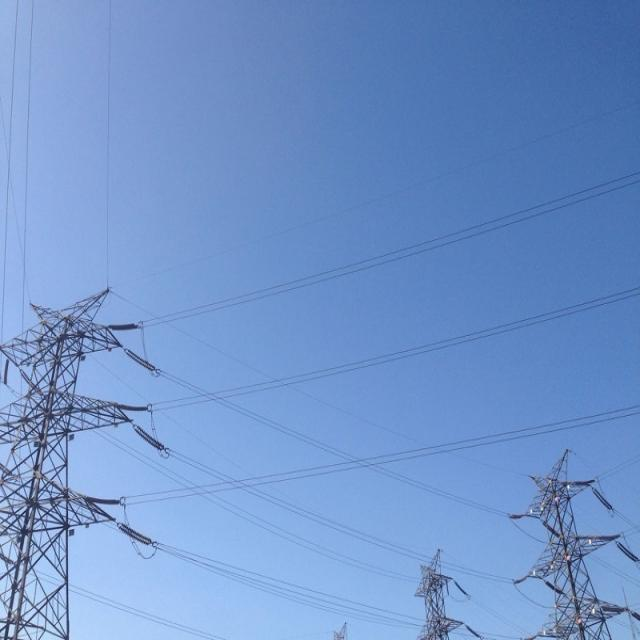non-critical vegetation: (9, 277, 172, 636), (503, 453, 631, 637), (407, 546, 462, 634)
